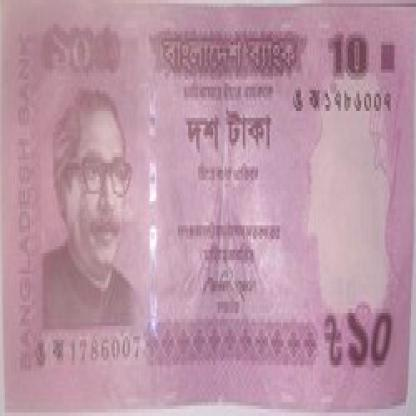Ten Taka: (341, 298, 398, 375), (48, 24, 93, 80), (326, 28, 371, 83)
